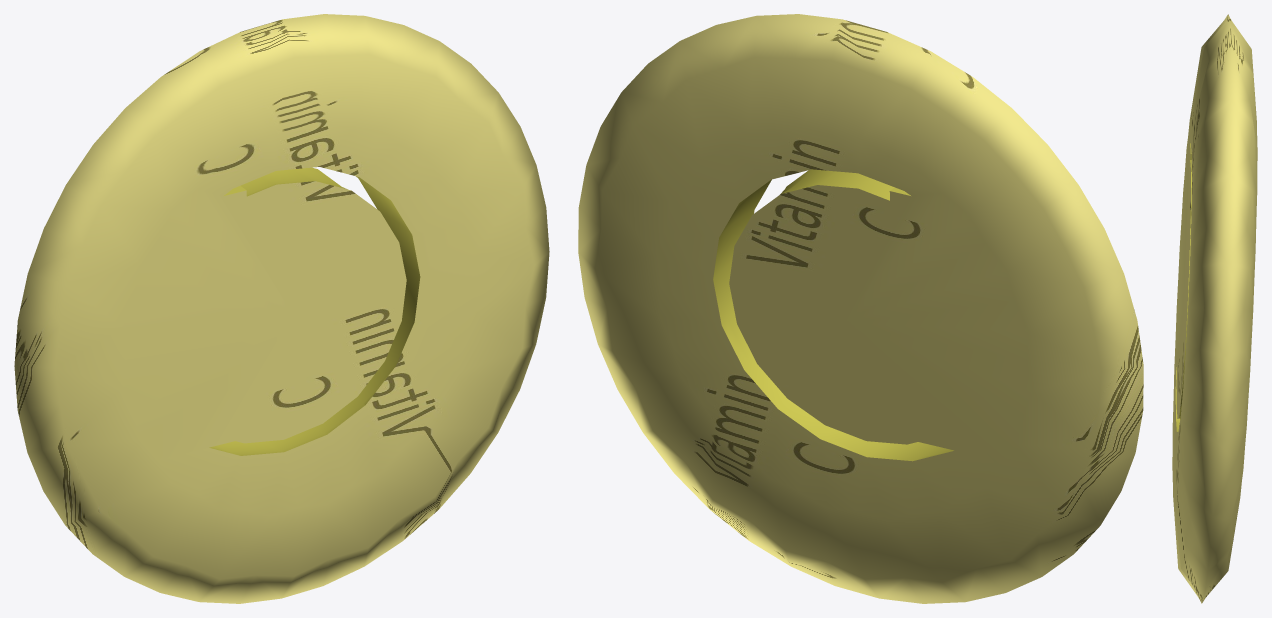
Rendered from vitaminc.fbx.
3 renders of one model, left to right at view 1: azimuth 30°, elevation 25°; view 2: azimuth 150°, elevation 25°; view 3: azimuth 270°, elevation 25°, orthographic. The views are drawn at different scales.
Parts seen in each view (by area): view 1: pCylinder2; view 2: pCylinder2; view 3: pCylinder2.
Boxes of the visible parts, <box> form: pCylinder2: <box>14,14,549,603</box>; pCylinder2: <box>578,14,1143,603</box>; pCylinder2: <box>1172,14,1257,603</box>.
Size of the model in its own units: 10.1 by 10.09 by 1.46.
